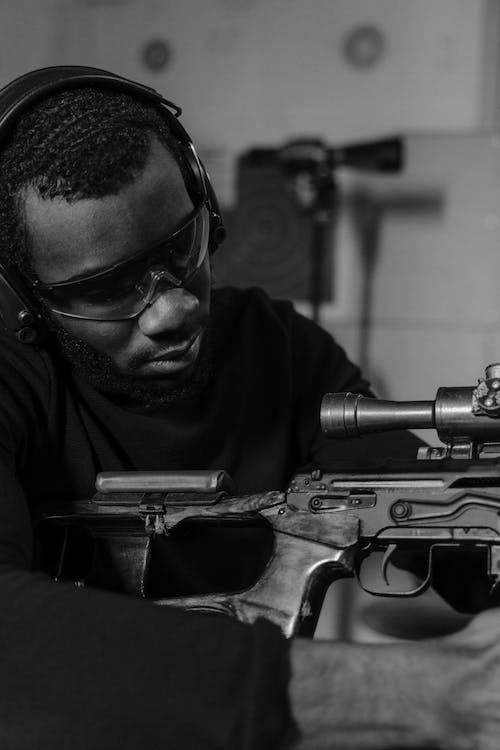gun: (43, 358, 500, 642)
